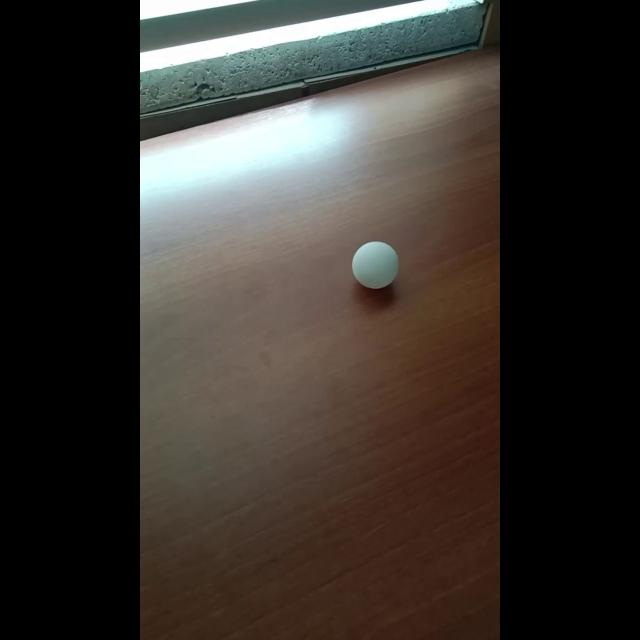white ball: (351, 240, 399, 290)
